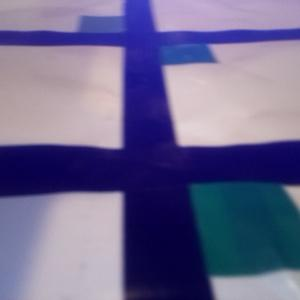bottom_right: (125, 148, 300, 275), (124, 31, 215, 62)
top_left: (77, 16, 154, 46)
